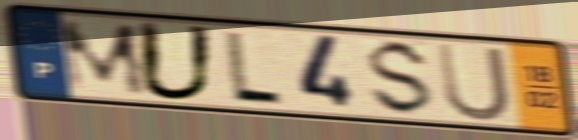4: (293, 31, 364, 115)
L: (221, 28, 286, 108)
M: (55, 19, 153, 97)
S: (366, 37, 437, 119)
U: (134, 18, 218, 104), (433, 40, 514, 124)
